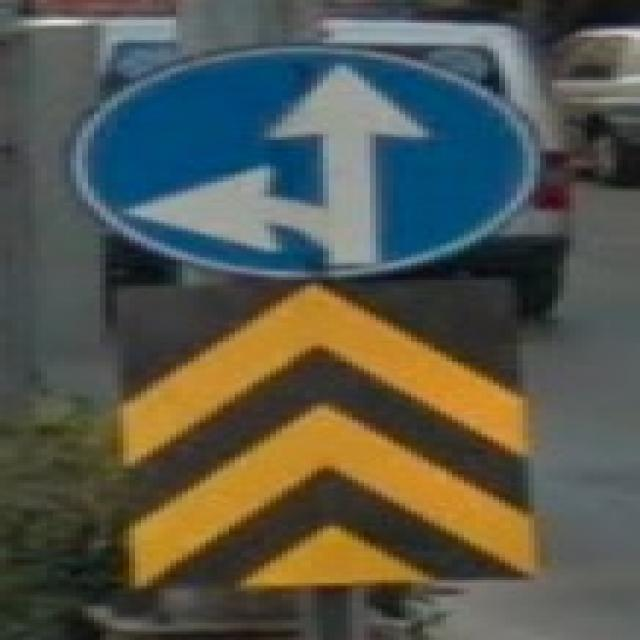Straight or Left: (69, 47, 538, 278)
